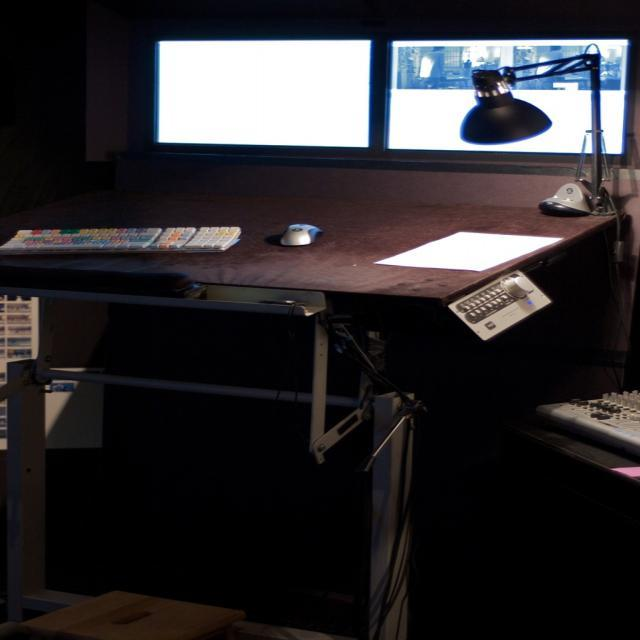others: (1, 14, 640, 599)
